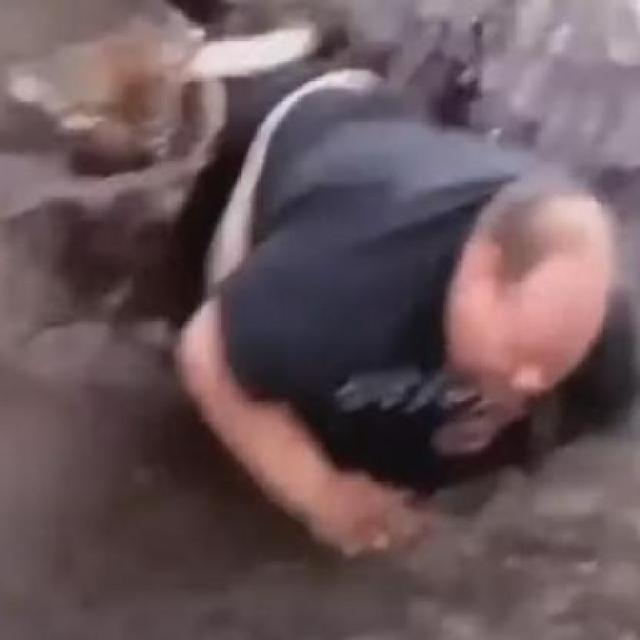fall: (160, 22, 631, 560)
